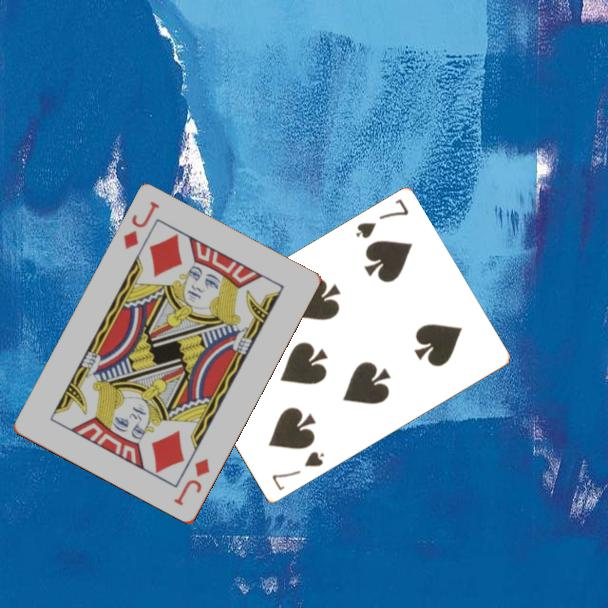d11: (120, 198, 163, 253), (170, 455, 213, 509)
s07: (352, 196, 412, 242), (268, 448, 327, 494)
